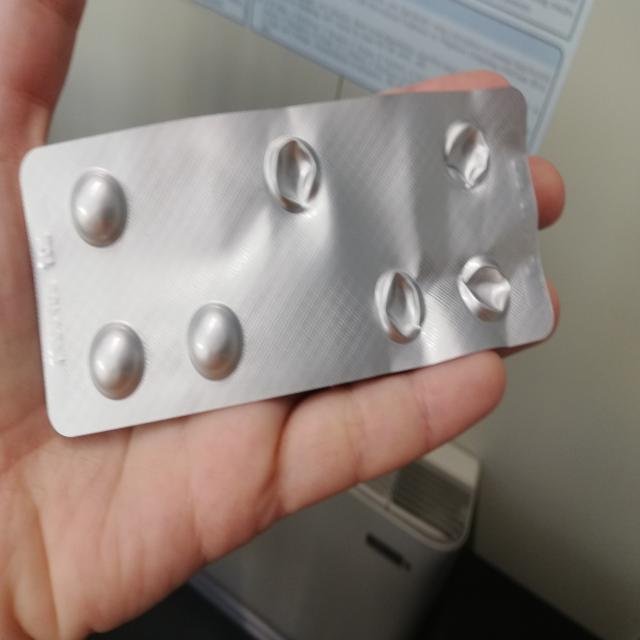Empty: (258, 127, 326, 217), (454, 249, 518, 328), (372, 265, 432, 347), (439, 112, 496, 195)
Pill: (86, 315, 149, 406), (183, 300, 247, 386), (68, 165, 129, 249)
